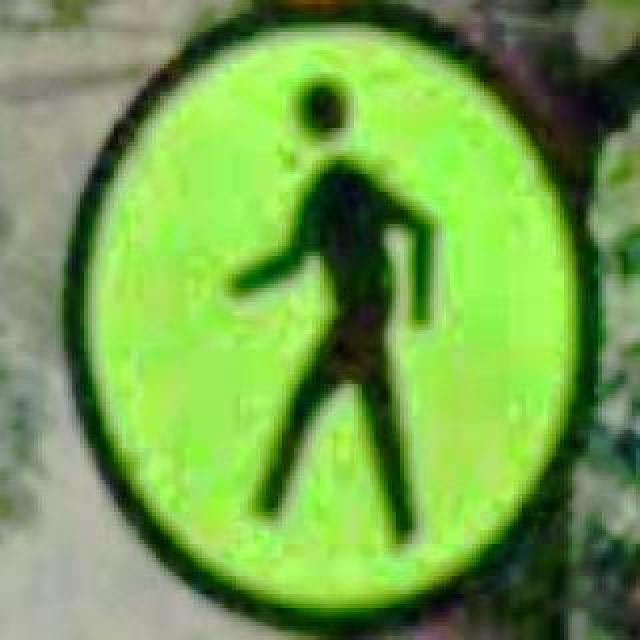pedestrian crossing: (58, 4, 598, 636)
